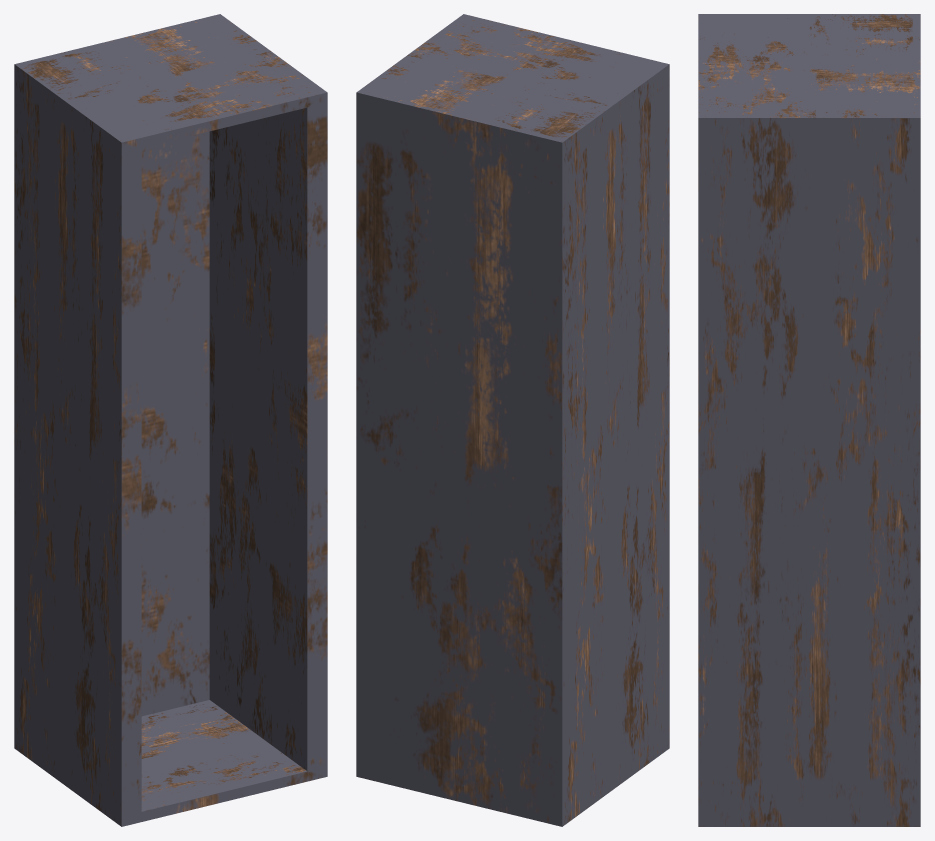
File: armario_semPorta_TEXTURIZADO.fbx
3 renders of one model, left to right at view 1: azimuth 30°, elevation 25°; view 2: azimuth 150°, elevation 25°; view 3: azimuth 270°, elevation 25°, orthographic. The views are drawn at different scales.
Visible parts, largest first — view 1: armario; view 2: armario; view 3: armario.
Boxes of the visible parts, x1,y1,x2,y2 form: armario: (14,14,327,826); armario: (356,14,669,826); armario: (698,14,920,826).
Size of the model in its own units: 71.03 by 226 by 64.08.
Materials: 1 (1 with a texture image).
